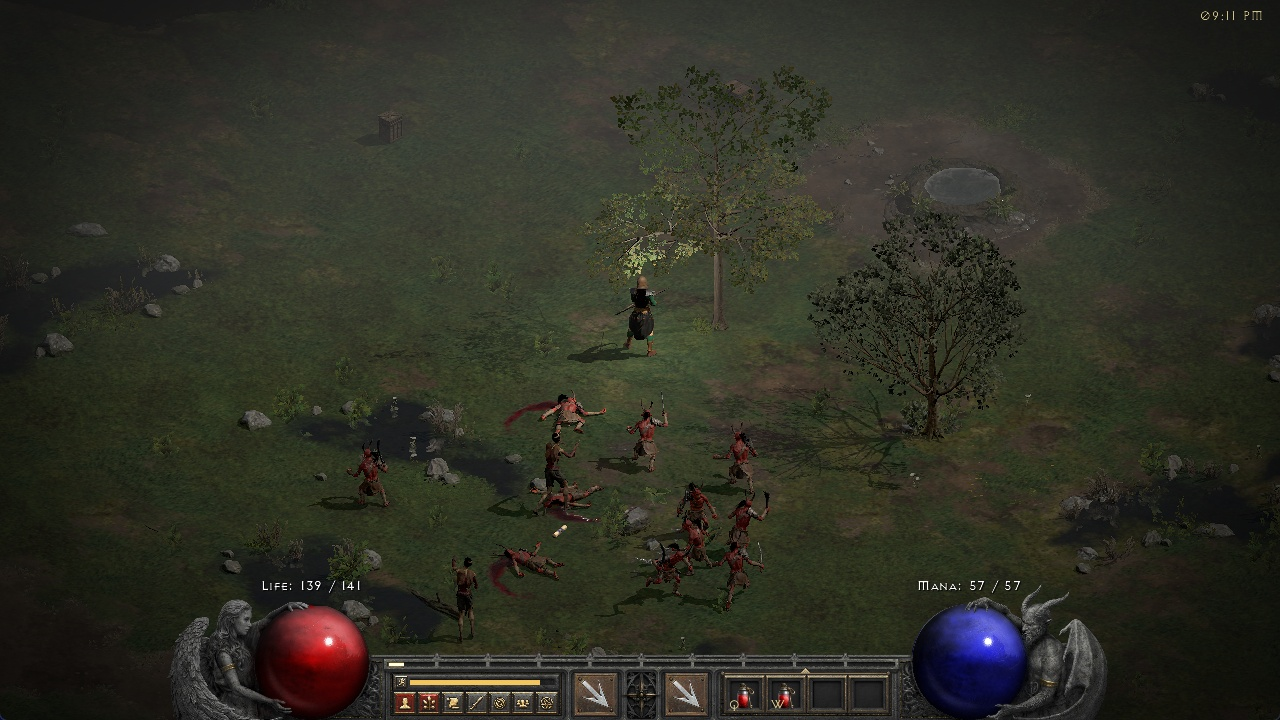fallen: (626, 392, 669, 471), (347, 442, 394, 508), (721, 541, 767, 608), (712, 424, 763, 481), (727, 488, 773, 536), (678, 519, 715, 564), (675, 483, 715, 516), (652, 546, 682, 590)
